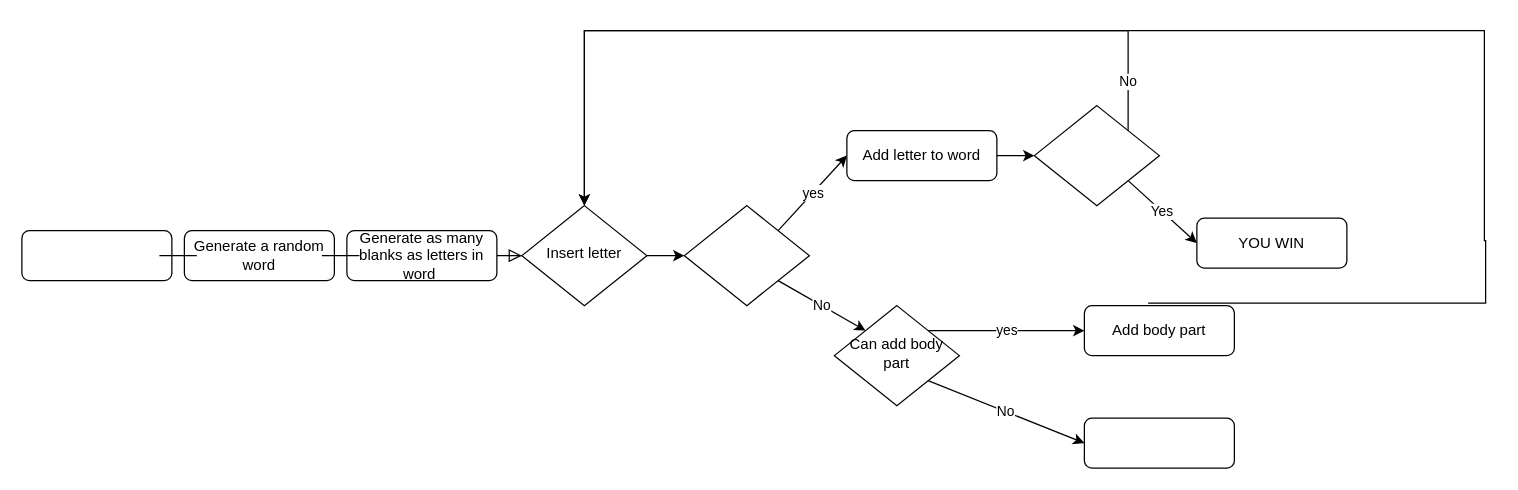
This 1518x490 diagram has some shape labels left out. The shapes that lost their labels are listed below. From the top down, each one's centre as x and y in pixels, then its label:
At point (1096, 155): "If word correct".
At point (96, 255): "Start".
At point (746, 255): "Correct".
At point (1158, 442): "YOU LOSE".
